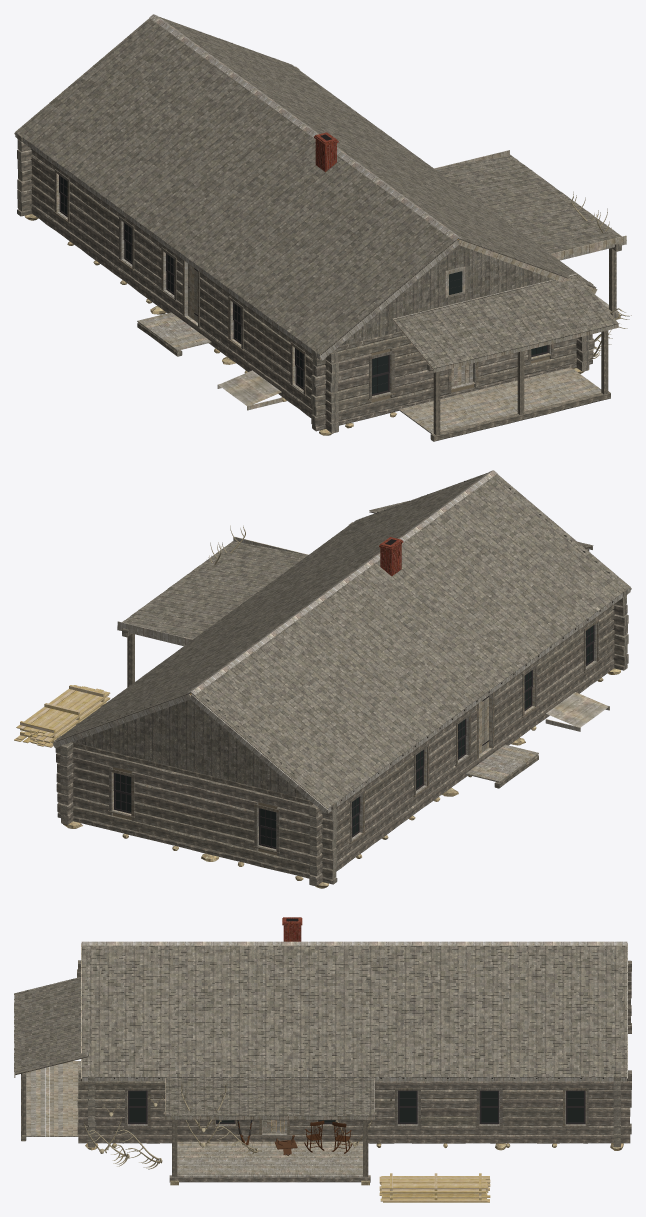
File: elkhorn_house.glb
3 views of the same model, one above another, from view 1: azimuth 30°, elevation 25°; view 2: azimuth 150°, elevation 25°; view 3: azimuth 270°, elevation 25° (orthographic). The views are drawn at different scales.
Visible parts, largest first — view 1: roof_shingle, house_log, house_shingle, house_deck, roof_board, house_board, house_trim, house_door, house_post, house_glass, house_logend, house_sash (+2 smaller); view 2: roof_shingle, house_log, house_shingle, roof_board, props_lumber, house_trim, house_board, house_glass, house_logend, house_door, house_sash, house_deck (+2 smaller); view 3: roof_shingle, house_log, house_shingle, house_deck, roof_board, props_lumber, house_glass, house_board, house_trim, props_antler, house_sash, house_logend (+3 smaller).
Boxes of the visible parts, x1,y1,x2,y2 form: roof_shingle: (15,17,596,354); house_log: (17,66,621,441); house_shingle: (393,154,621,368); house_deck: (137,295,616,433); roof_board: (14,14,597,360); house_board: (56,150,626,410); house_trim: (53,169,554,400); house_door: (188,263,473,405); house_post: (433,248,616,435); house_glass: (60,176,546,394); house_logend: (17,135,621,441); house_sash: (59,175,548,395); roof_shingle: (54,473,630,808); house_log: (55,522,628,885); house_shingle: (122,500,593,639); roof_board: (53,470,631,813); props_lumber: (14,685,110,747); house_trim: (108,618,599,853); house_board: (111,510,609,851); house_glass: (115,626,593,847); house_logend: (60,549,628,886); house_door: (479,692,608,754); house_sash: (113,625,594,848); house_deck: (465,744,538,782); roof_shingle: (82,945,626,1077); house_log: (21,960,631,1182); house_shingle: (14,977,374,1116); house_deck: (26,1061,367,1177); roof_board: (81,941,627,1081); props_lumber: (379,1173,490,1202); house_glass: (129,1091,583,1122); house_board: (14,996,586,1135); house_trim: (124,1088,589,1134); props_antler: (84,1082,372,1169); house_sash: (128,1090,585,1124); house_logend: (21,1074,620,1147).
Bounding box in the file's own units: 14.84 × 6.48 × 21.2.
46 materials, 46 textured.
